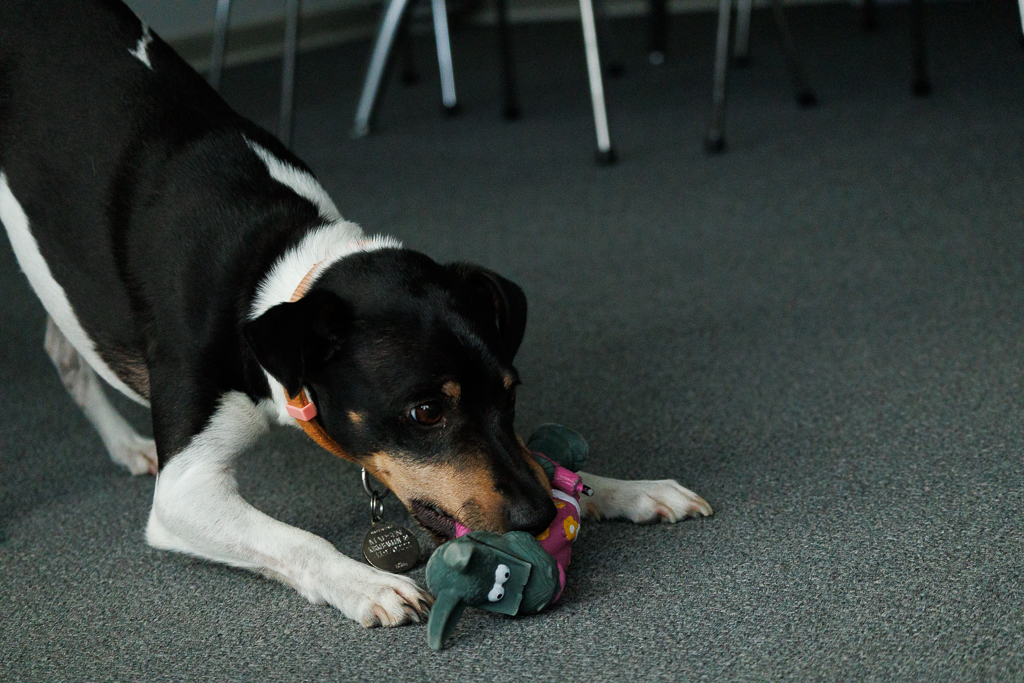Dog: (0, 0, 736, 641)
Humanoid: (411, 413, 600, 666)
